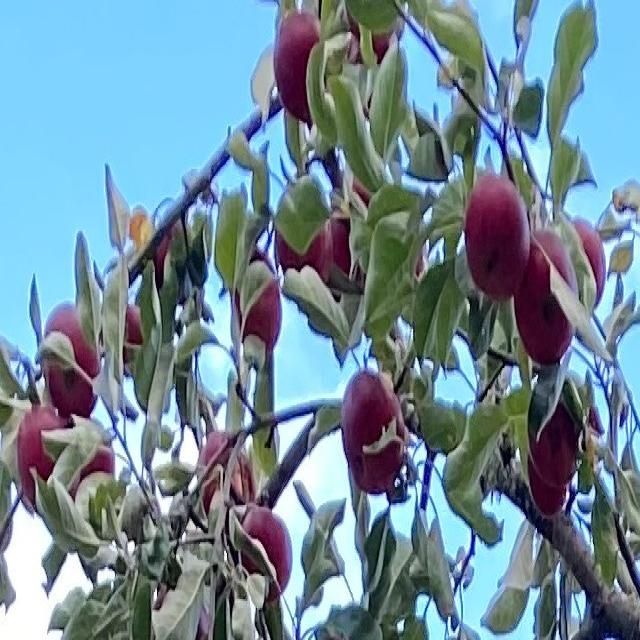100-_ripeness: (343, 373, 406, 487), (466, 186, 530, 298), (518, 229, 572, 359), (46, 298, 101, 418), (529, 377, 583, 478), (276, 12, 324, 122), (201, 432, 254, 521), (240, 512, 291, 597), (330, 183, 372, 286), (18, 411, 66, 501), (278, 206, 331, 281), (239, 260, 283, 350), (571, 217, 606, 309), (69, 430, 115, 496), (350, 0, 394, 62), (155, 215, 188, 290), (528, 462, 569, 518), (117, 298, 142, 364)
